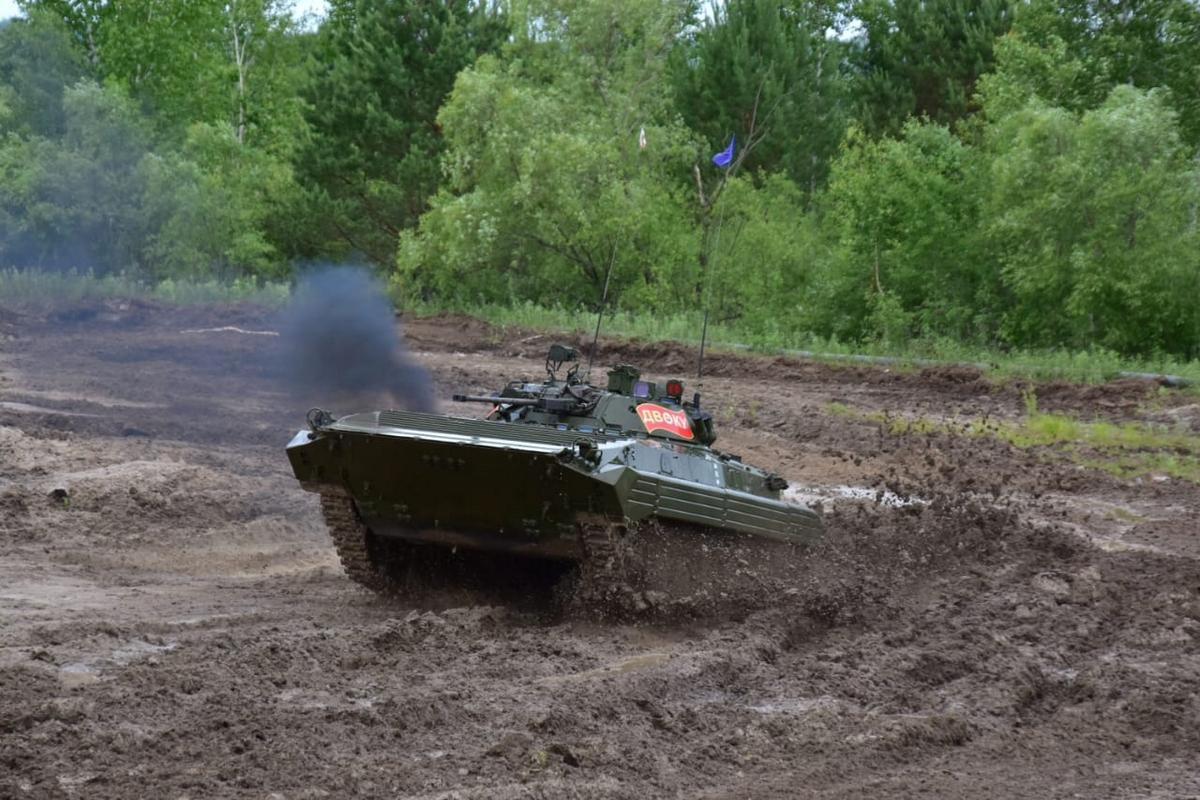tank: (285, 343, 826, 603)
